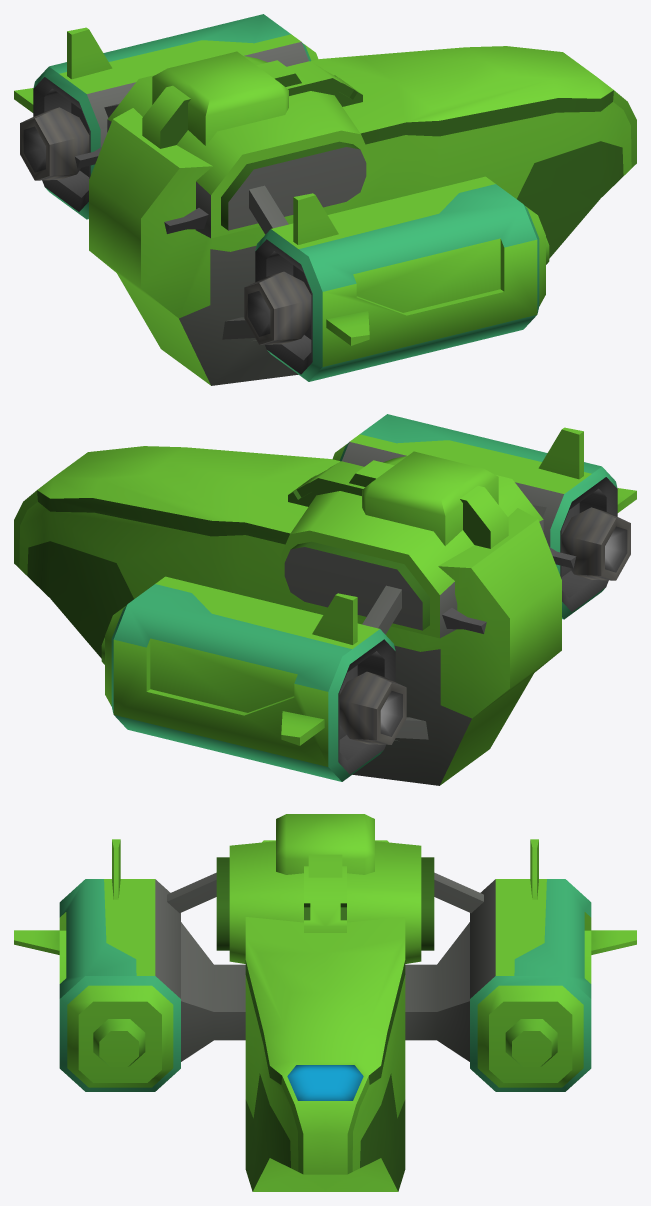
The model's file is EnemyShip1.fbx.
3 renders of one model, top to bottom at view 1: azimuth 30°, elevation 25°; view 2: azimuth 150°, elevation 25°; view 3: azimuth 270°, elevation 25°, orthographic. The views are drawn at different scales.
Parts seen in each view (by area): view 1: Enemy1Parts.001, Enemy1Parts.002, Enemy1Parts.003; view 2: Enemy1Parts.001, Enemy1Parts.003, Enemy1Parts.002; view 3: Enemy1Parts.001.
Part boxes in pixels (box(x1,y1,x2,y2)): Enemy1Parts.001: box(14, 14, 636, 385); Enemy1Parts.002: box(244, 271, 311, 344); Enemy1Parts.003: box(20, 107, 89, 180); Enemy1Parts.001: box(14, 414, 636, 785); Enemy1Parts.003: box(339, 671, 406, 744); Enemy1Parts.002: box(561, 507, 630, 580); Enemy1Parts.001: box(14, 814, 636, 1191).
Size of the model in its own units: 3.4 by 3.89 by 1.8.
